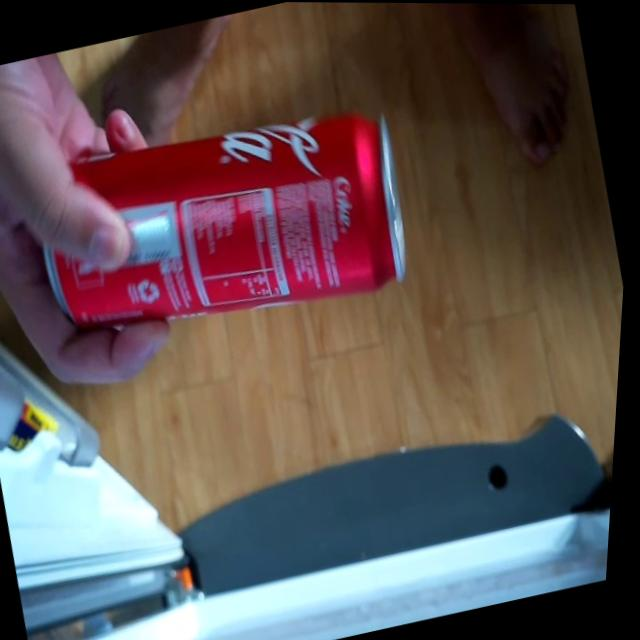coke: (15, 81, 427, 357)
